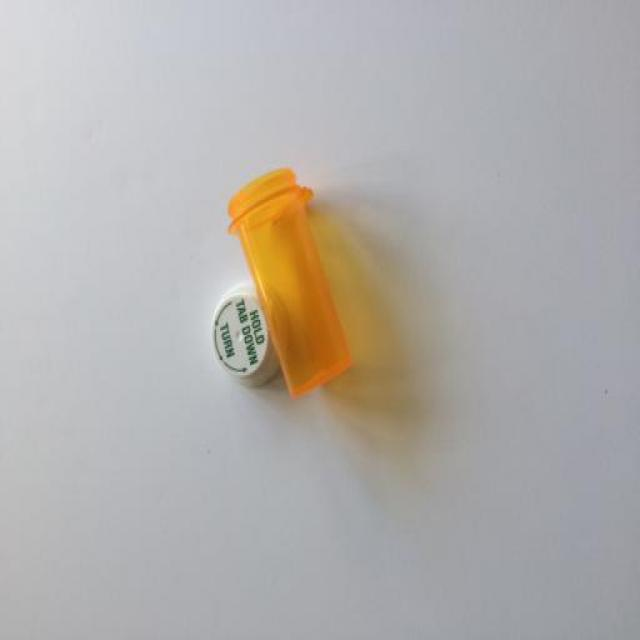plastic_bottle: (206, 170, 372, 385)
